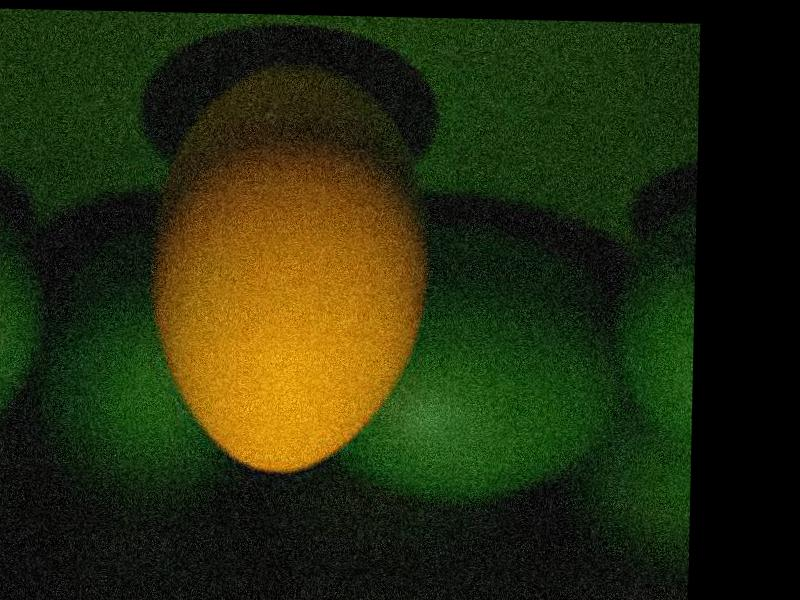Eggs: (147, 60, 432, 473)
